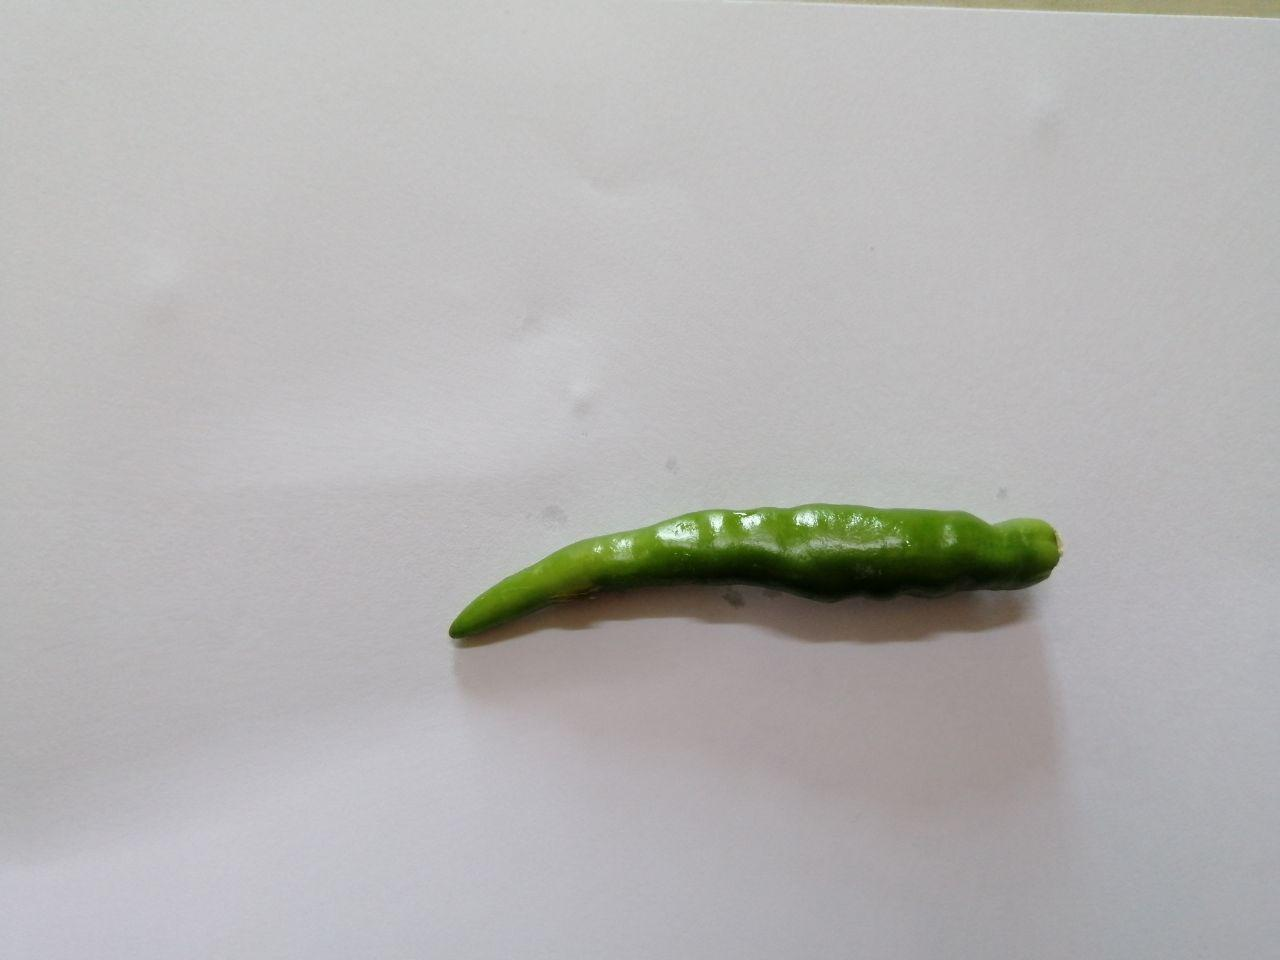lada hijau: (424, 475, 1085, 699)
